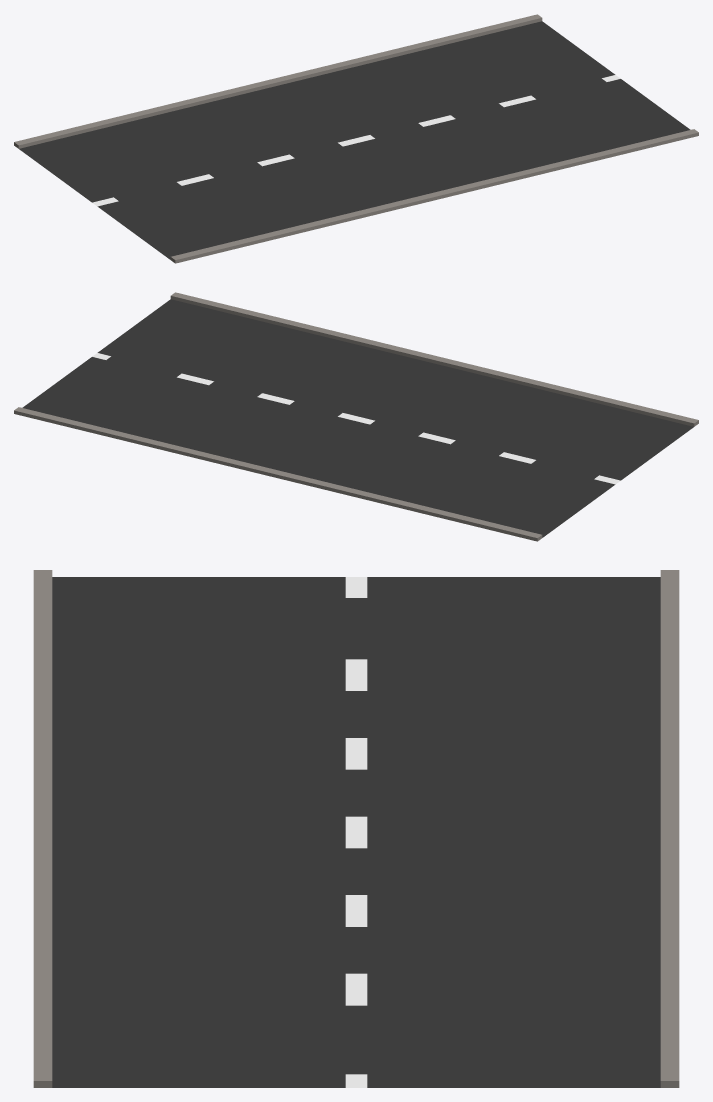
The model's file is Airport Asphalt_1.fbx.
3 views of the same model, one above another, from view 1: azimuth 30°, elevation 25°; view 2: azimuth 150°, elevation 25°; view 3: azimuth 270°, elevation 25° (orthographic). The views are drawn at different scales.
Parts seen in each view (by area): view 1: Airport Asphalt_1; view 2: Airport Asphalt_1; view 3: Airport Asphalt_1.
Boxes of the visible parts, left/top/right/bottom form: Airport Asphalt_1: left=14, top=14, right=698, bottom=263; Airport Asphalt_1: left=14, top=292, right=698, bottom=541; Airport Asphalt_1: left=33, top=570, right=679, bottom=1087.
Bounding box in the file's own units: 2622 × 16.39 × 1400.
